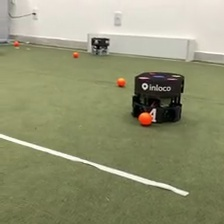ball: (137, 109, 154, 127), (116, 76, 127, 88), (71, 50, 79, 58), (12, 39, 20, 47)
goal: (86, 30, 196, 64)
robot: (128, 69, 186, 124), (89, 35, 110, 56)
